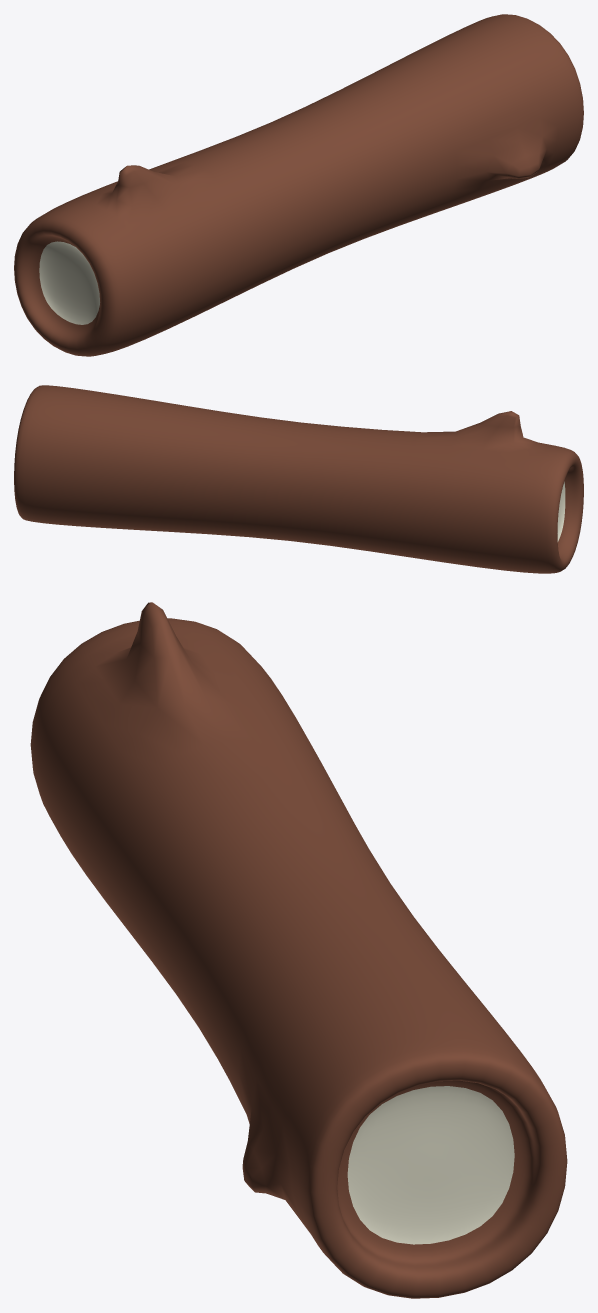
The model's file is Log.glb.
3 views of the same model, one above another, from view 1: azimuth 30°, elevation 25°; view 2: azimuth 150°, elevation 25°; view 3: azimuth 270°, elevation 25° (orthographic). The views are drawn at different scales.
Visible parts, largest first — view 1: Cube.011; view 2: Cube.011; view 3: Cube.011.
Boxes of the visible parts, x1=… form: Cube.011: x1=14, y1=14, x2=583, y2=356; Cube.011: x1=14, y1=385, x2=583, y2=573; Cube.011: x1=30, y1=602, x2=567, y2=1298.
Bounding box in the file's own units: 6.23 × 1.81 × 2.93.
